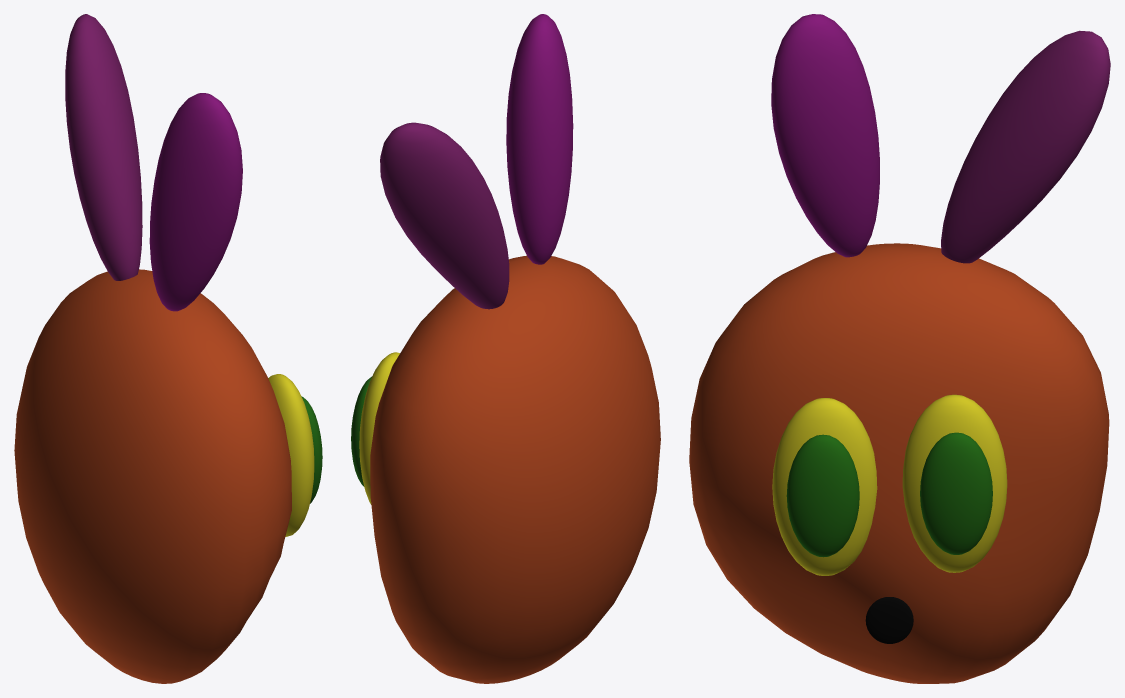
The model's file is caterHead.glb.
The picture shows the model from 3 angles, left to right: view 1: azimuth 30°, elevation 25°; view 2: azimuth 150°, elevation 25°; view 3: azimuth 270°, elevation 25°; orthographic projection. The views are drawn at different scales.
Parts seen in each view (by area): view 1: head, earL, earR, eyeLY, eyeL; view 2: head, earR, earL, eyeRY, eyeR; view 3: head, earR, earL, eyeLY, eyeRY, eyeL, eyeR, mouth.
Boxes of the visible parts, bbox=[...] form: head: bbox=[14, 269, 291, 683]; earL: bbox=[149, 93, 242, 311]; earR: bbox=[65, 14, 142, 280]; eyeLY: bbox=[268, 374, 314, 536]; eyeL: bbox=[301, 396, 322, 503]; head: bbox=[370, 255, 660, 683]; earR: bbox=[380, 122, 509, 309]; earL: bbox=[506, 14, 573, 264]; eyeRY: bbox=[359, 352, 399, 504]; eyeR: bbox=[351, 376, 371, 486]; head: bbox=[689, 243, 1109, 683]; earR: bbox=[941, 30, 1110, 263]; earL: bbox=[771, 14, 879, 257]; eyeLY: bbox=[772, 398, 877, 575]; eyeRY: bbox=[902, 394, 1007, 572]; eyeL: bbox=[786, 434, 859, 557]; eyeR: bbox=[920, 432, 992, 554]; mouth: bbox=[865, 597, 913, 643].
Size of the model in its own units: 1.71 by 4.2 by 2.4.
